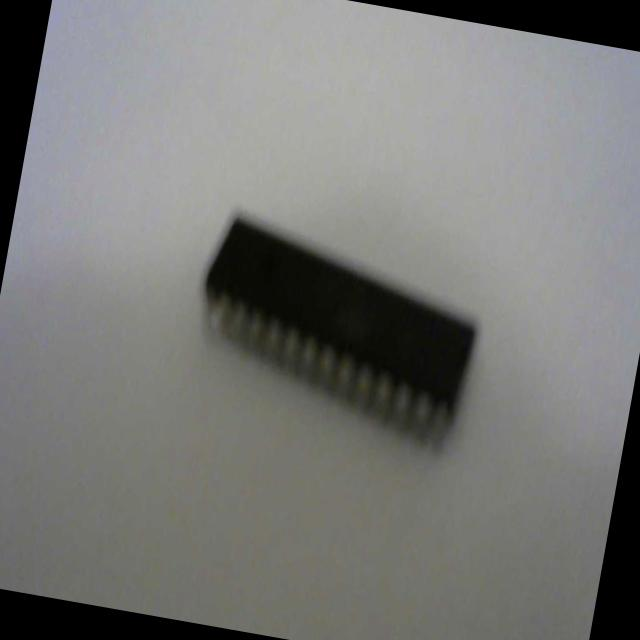atmega: (179, 203, 493, 457)
